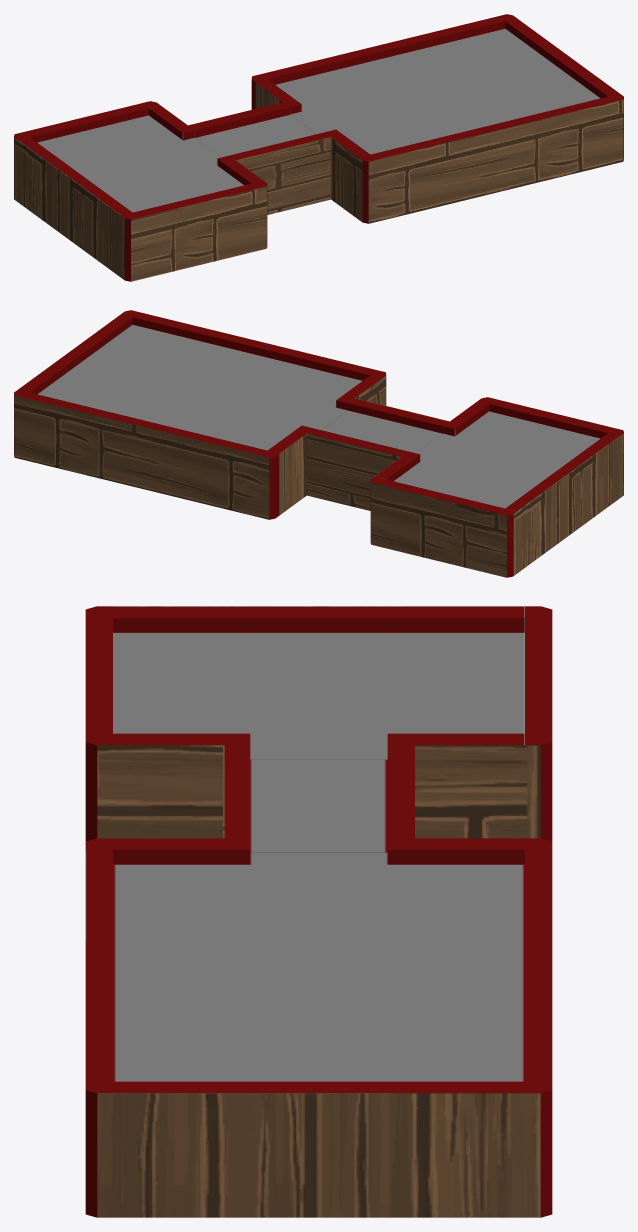
Rendered from board.glb.
3 views of the same model, one above another, from view 1: azimuth 30°, elevation 25°; view 2: azimuth 150°, elevation 25°; view 3: azimuth 270°, elevation 25° (orthographic). The views are drawn at different scales.
Parts seen in each view (by area): view 1: Style-1; view 2: Style-1; view 3: Style-1.
Part boxes in pixels (x1,y1,x2,y2): Style-1: [14, 14, 623, 281]; Style-1: [14, 310, 623, 577]; Style-1: [85, 606, 552, 1217].
Bounding box in the file's own units: 8.4 × 1 × 3.4.
Materials: 1 (1 with a texture image).
